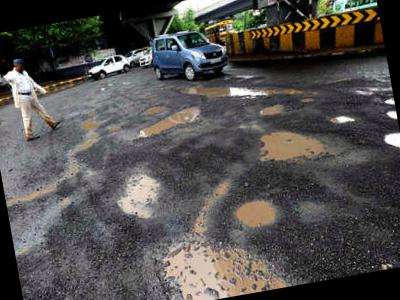pothole: (142, 219, 301, 300), (175, 64, 312, 118), (107, 156, 175, 234), (253, 117, 325, 172), (50, 103, 108, 170), (127, 101, 206, 144), (222, 190, 287, 238), (255, 99, 291, 121), (325, 109, 358, 133), (374, 127, 400, 157), (348, 82, 379, 104), (138, 101, 174, 119), (378, 106, 400, 132), (294, 91, 324, 110), (155, 81, 176, 94), (380, 94, 396, 108), (145, 92, 159, 102)
